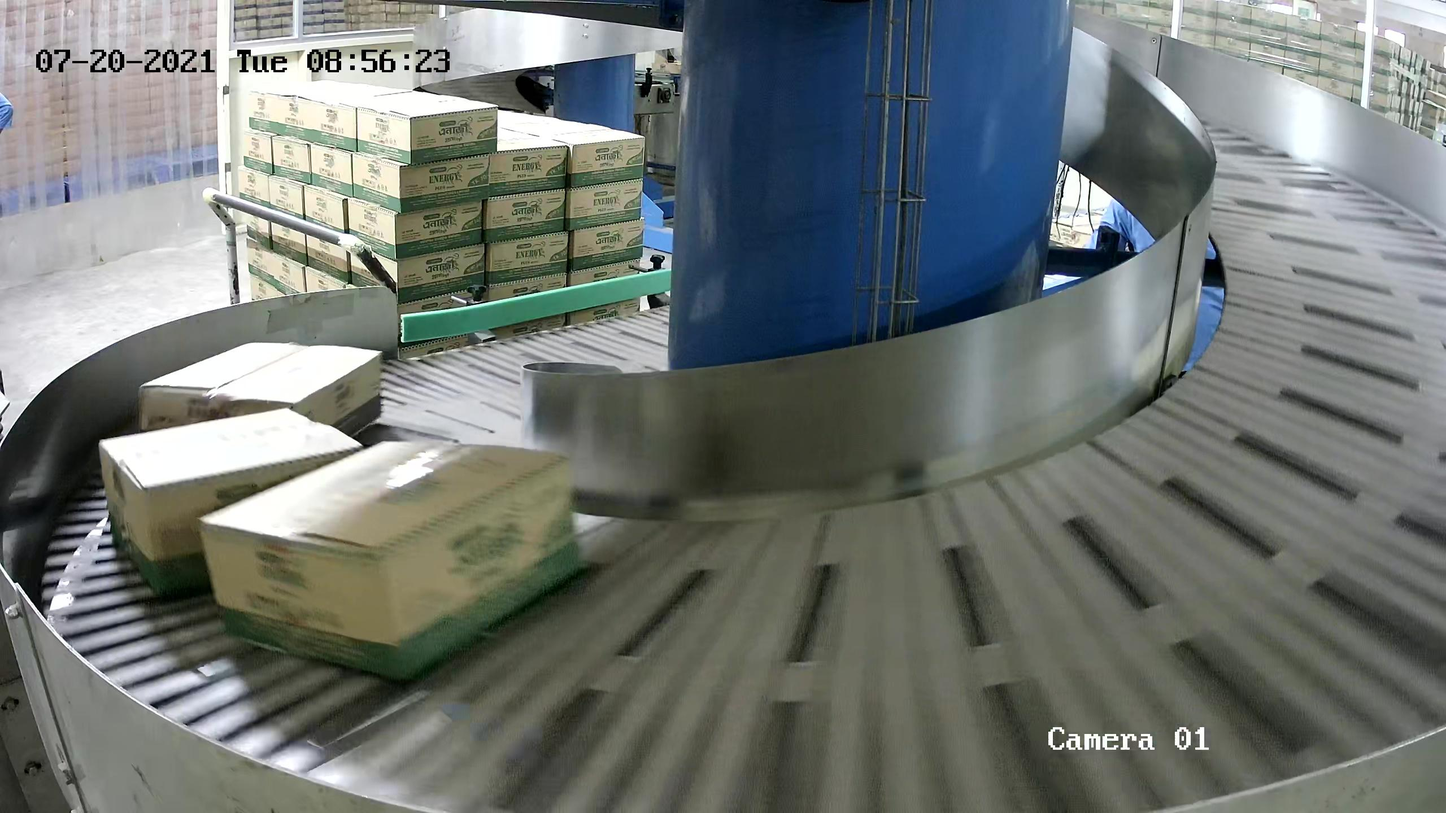Box: (198, 439, 588, 684), (96, 405, 365, 591), (135, 339, 383, 450)
